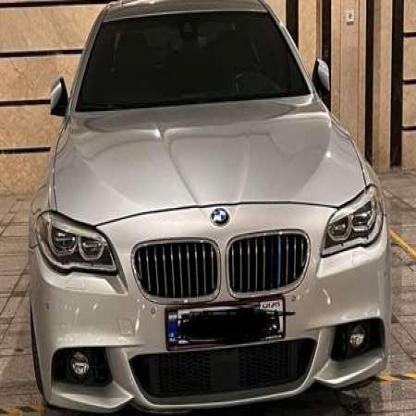Car: (34, 4, 384, 409)
